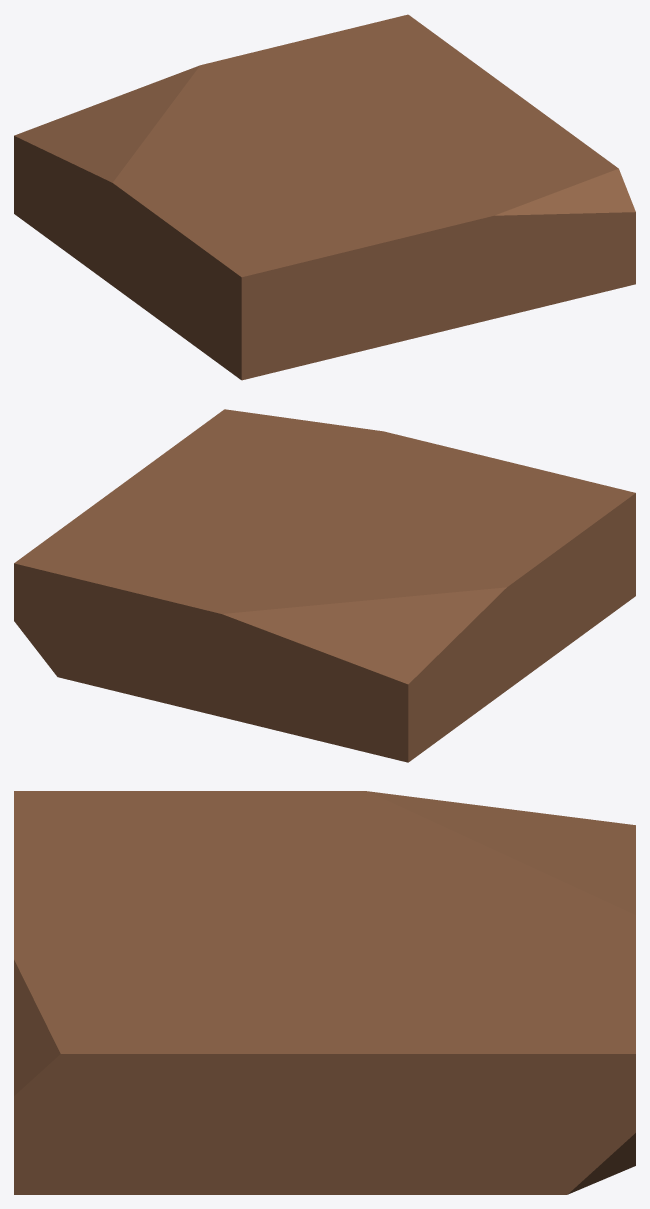
Rendered from Monument_008.FBX.
3 views of the same model, one above another, from view 1: azimuth 30°, elevation 25°; view 2: azimuth 150°, elevation 25°; view 3: azimuth 270°, elevation 25° (orthographic). The views are drawn at different scales.
Visible parts, largest first — view 1: Monument_008; view 2: Monument_008; view 3: Monument_008.
Boxes of the visible parts, <box> form: Monument_008: <box>14,14,635,380</box>; Monument_008: <box>14,409,635,762</box>; Monument_008: <box>14,791,635,1194</box>.
Bounding box in the file's own units: 39.37 × 9.84 × 39.37.
